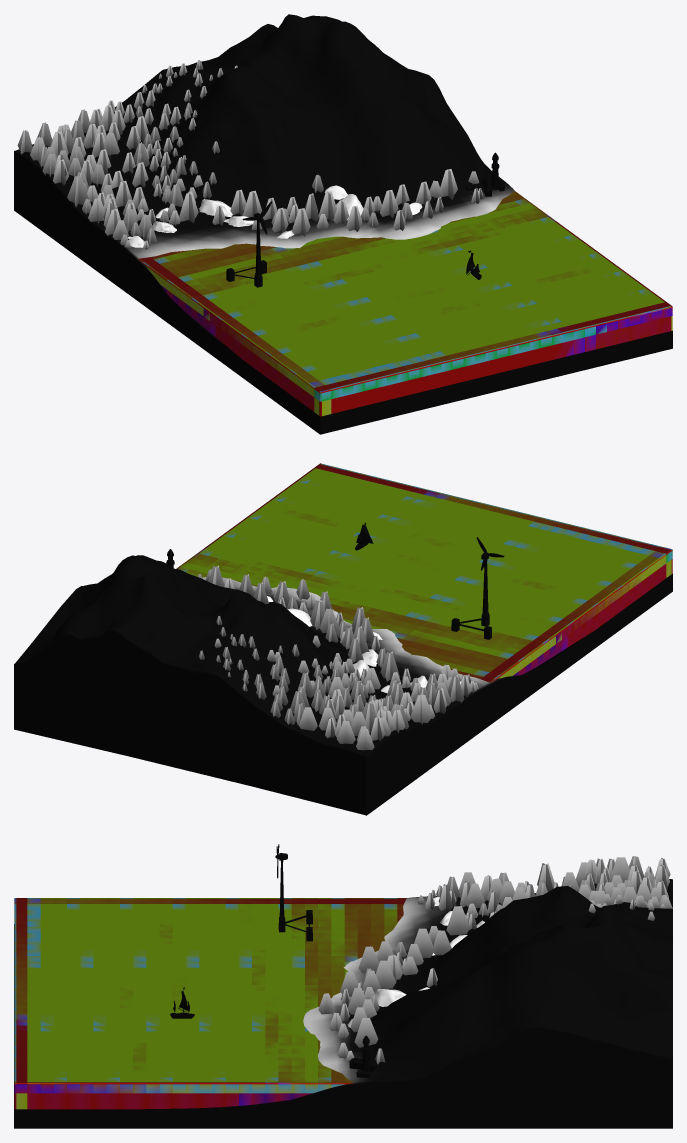
Rendered from WindFarmFast.fbx.
The picture shows the model from 3 angles, top to bottom: view 1: azimuth 30°, elevation 25°; view 2: azimuth 150°, elevation 25°; view 3: azimuth 270°, elevation 25°; orthographic projection. The views are drawn at different scales.
Visible parts, largest first — view 1: Windmill_Turbine_001:Terrain, Windmill_Turbine_001:water, Windmill_Turbine_001:Trees_Rocks, Windmill_Turbine_001:group1_polySurface132; view 2: Windmill_Turbine_001:Terrain, Windmill_Turbine_001:water, Windmill_Turbine_001:Trees_Rocks, Windmill_Turbine_001:group1_polySurface132; view 3: Windmill_Turbine_001:Terrain, Windmill_Turbine_001:water, Windmill_Turbine_001:Trees_Rocks, Windmill_Turbine_001:group1_polySurface132, Windmill_Turbine_001:LightHouse.
Part boxes in pixels (x1=…): Windmill_Turbine_001:Terrain: x1=14, y1=14, x2=672, y2=434; Windmill_Turbine_001:water: x1=138, y1=191, x2=672, y2=416; Windmill_Turbine_001:Trees_Rocks: x1=17, y1=60, x2=483, y2=249; Windmill_Turbine_001:group1_polySurface132: x1=226, y1=213, x2=266, y2=287; Windmill_Turbine_001:Terrain: x1=14, y1=555, x2=672, y2=815; Windmill_Turbine_001:water: x1=176, y1=463, x2=672, y2=682; Windmill_Turbine_001:Trees_Rocks: x1=198, y1=565, x2=478, y2=750; Windmill_Turbine_001:group1_polySurface132: x1=451, y1=552, x2=491, y2=639; Windmill_Turbine_001:Terrain: x1=14, y1=879, x2=672, y2=1128; Windmill_Turbine_001:water: x1=14, y1=898, x2=406, y2=1109; Windmill_Turbine_001:Trees_Rocks: x1=318, y1=856, x2=672, y2=1064; Windmill_Turbine_001:group1_polySurface132: x1=278, y1=853, x2=312, y2=941; Windmill_Turbine_001:LightHouse: x1=349, y1=1035, x2=376, y2=1077.
Bounding box in the file's own units: 134 × 56.53 × 200.
